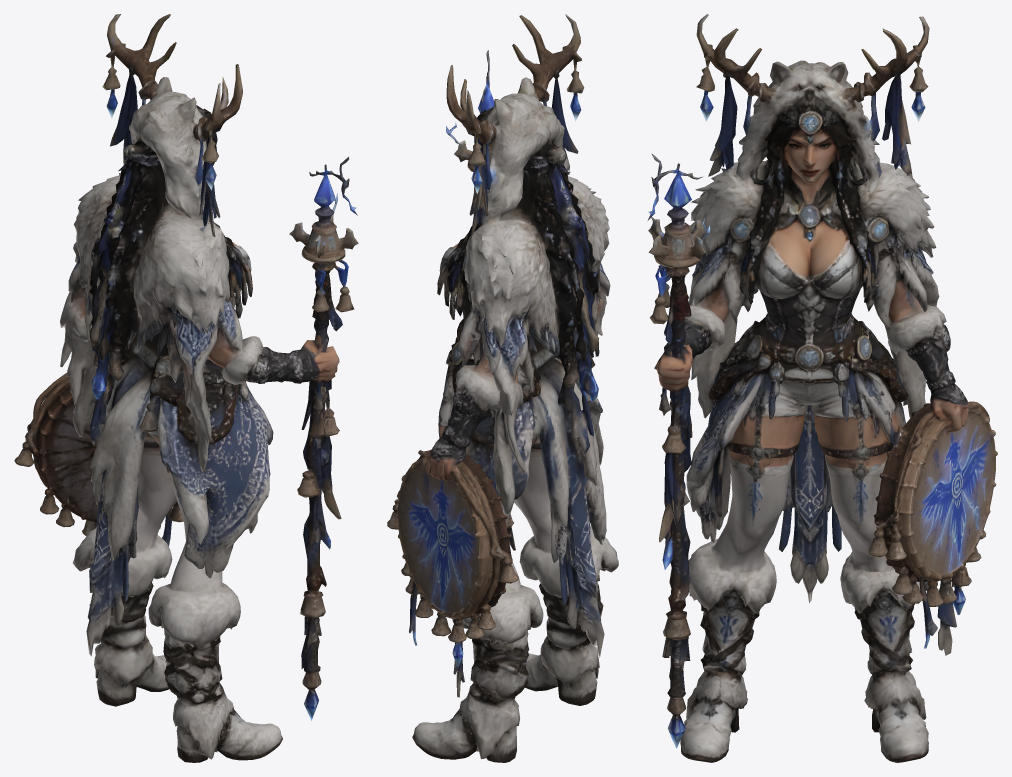
Rendered from drumcaller-FrostHunter-tripo.glb.
The picture shows the model from 3 angles, left to right: view 1: azimuth 30°, elevation 25°; view 2: azimuth 150°, elevation 25°; view 3: azimuth 270°, elevation 25°; orthographic projection. The views are drawn at different scales.
Visible parts, largest first — view 1: tripo_node_33239905-485c-4889-9597-12804b13cec9; view 2: tripo_node_33239905-485c-4889-9597-12804b13cec9; view 3: tripo_node_33239905-485c-4889-9597-12804b13cec9.
Part boxes in pixels (<box>): tripo_node_33239905-485c-4889-9597-12804b13cec9: <box>14,14,358,762</box>; tripo_node_33239905-485c-4889-9597-12804b13cec9: <box>387,14,618,762</box>; tripo_node_33239905-485c-4889-9597-12804b13cec9: <box>647,14,997,762</box>.
Size of the model in its own units: 0.3151 by 1 by 0.4369.
Materials: 1 (1 with a texture image).
